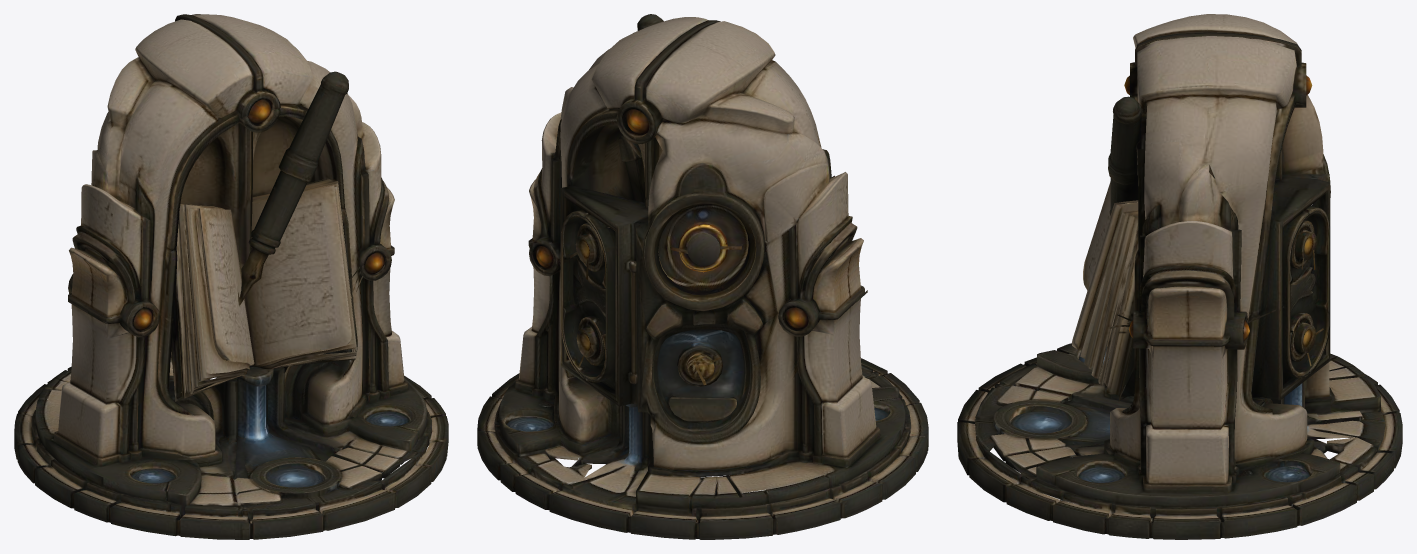
File: field-notes-monument-hologram.glb
3 views of the same model, side by side, from view 1: azimuth 30°, elevation 25°; view 2: azimuth 150°, elevation 25°; view 3: azimuth 270°, elevation 25° (orthographic). The views are drawn at different scales.
Visible parts, largest first — view 1: tripo_66bc93fb_0ac6_4112_a83d_35e9ab40202a; view 2: tripo_66bc93fb_0ac6_4112_a83d_35e9ab40202a; view 3: tripo_66bc93fb_0ac6_4112_a83d_35e9ab40202a.
Boxes of the visible parts, x1,y1,x2,y2 form: tripo_66bc93fb_0ac6_4112_a83d_35e9ab40202a: [14, 14, 448, 539]; tripo_66bc93fb_0ac6_4112_a83d_35e9ab40202a: [477, 14, 928, 539]; tripo_66bc93fb_0ac6_4112_a83d_35e9ab40202a: [957, 14, 1402, 539].
Size of the model in its own units: 0.9673 by 0.9995 by 0.9692.
Materials: 1 (1 with a texture image).
